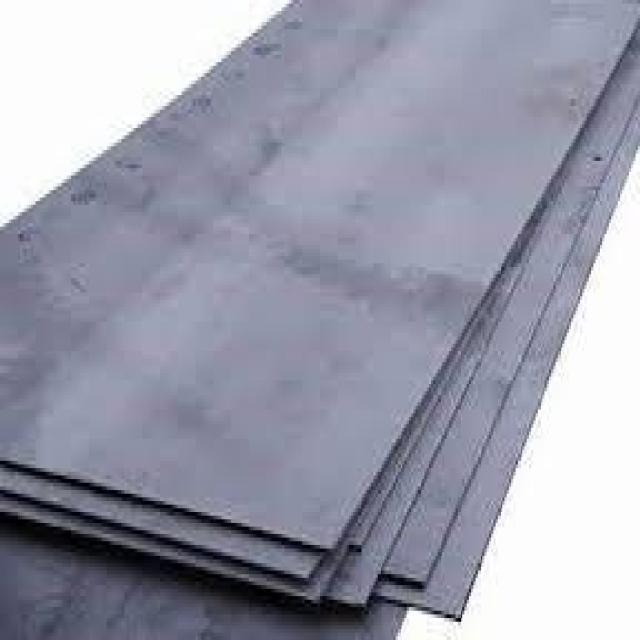Dry: (20, 0, 640, 618)
